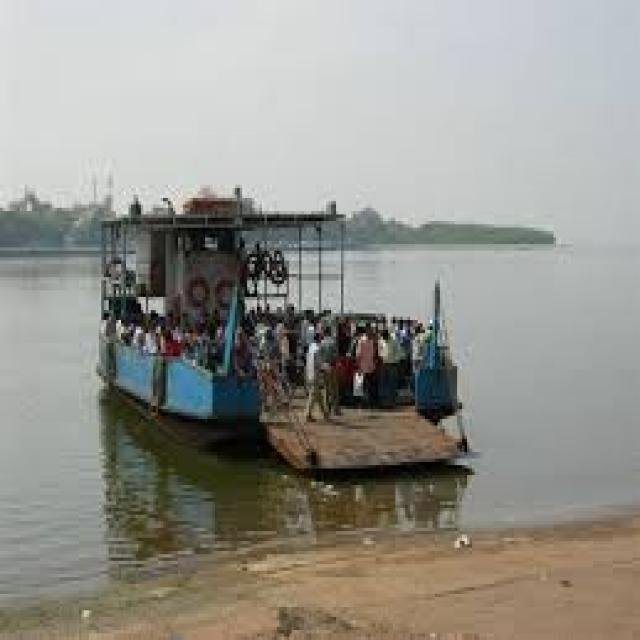passenger ship: (97, 160, 461, 435)
